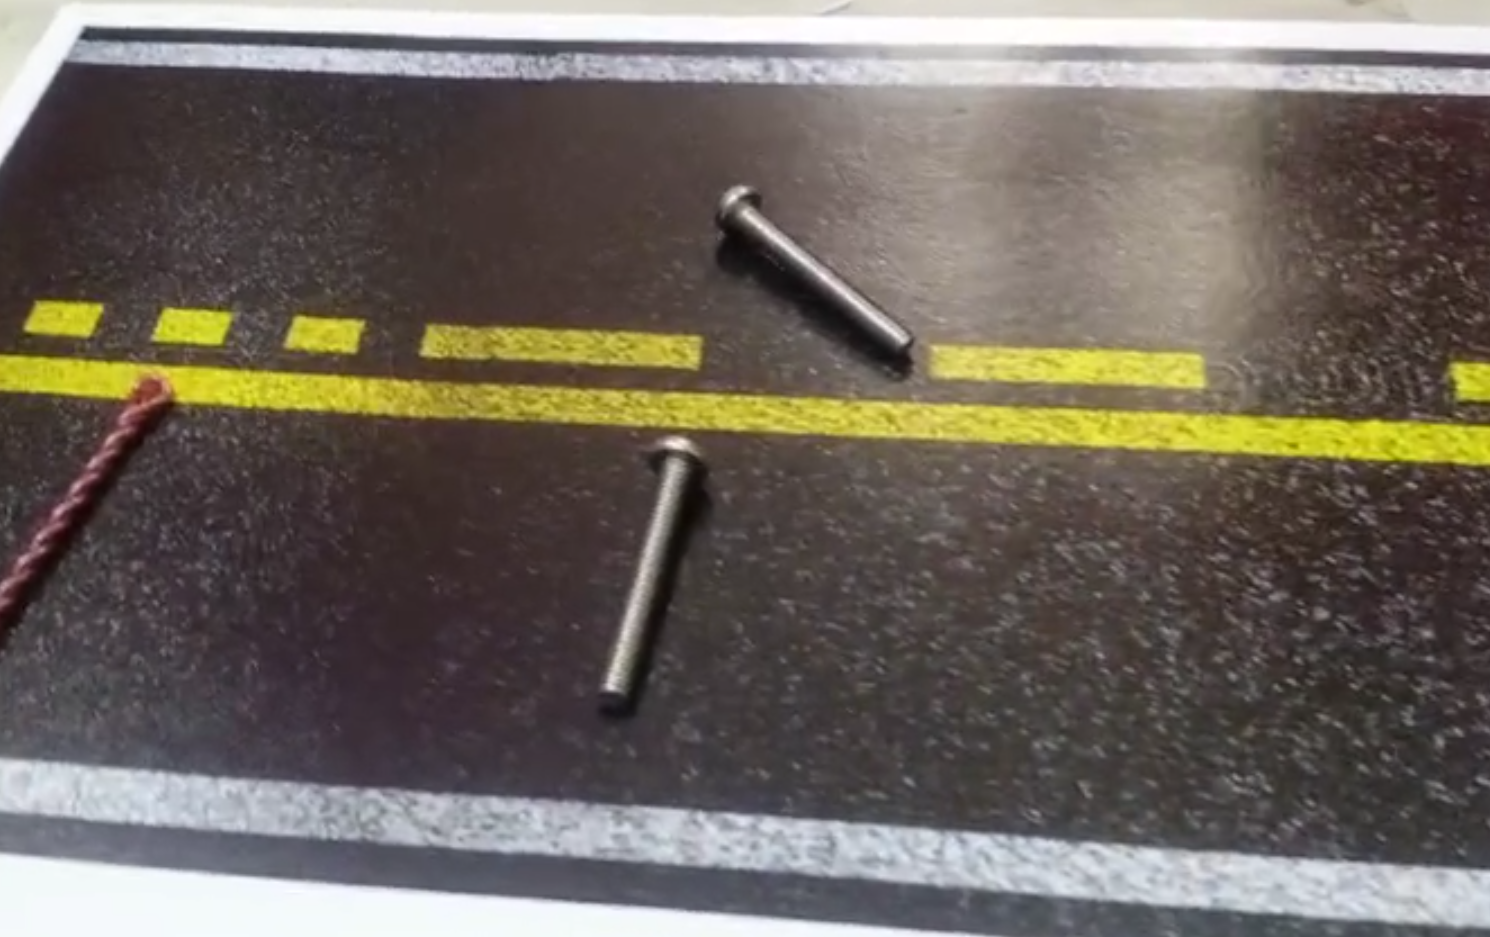metal: (1, 374, 177, 625), (711, 175, 920, 377), (592, 434, 711, 714)
